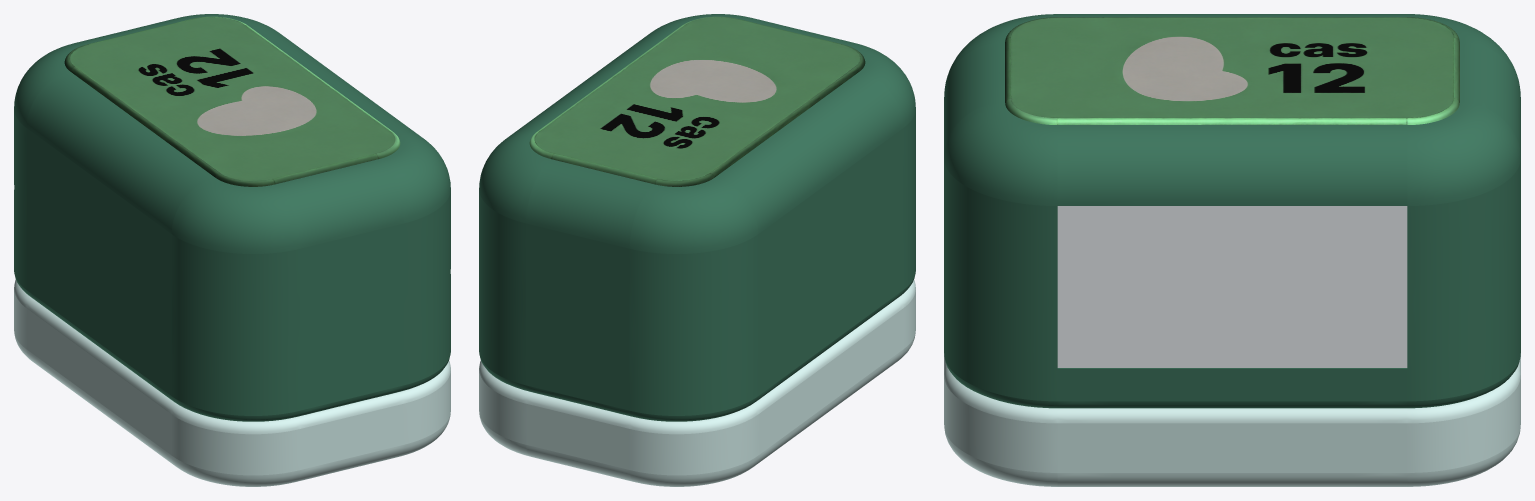
The model's file is 误删源文件.fbx.
3 renders of one model, left to right at view 1: azimuth 30°, elevation 25°; view 2: azimuth 150°, elevation 25°; view 3: azimuth 270°, elevation 25°, orthographic. The views are drawn at different scales.
Parts seen in each view (by area): view 1: 物件_330, 物件_327, 物件_331; view 2: 物件_330, 物件_327, 物件_331; view 3: 物件_330, 物件_328, 物件_327, 物件_331.
Boxes of the visible parts, x1,y1,x2,y2 form: 物件_330: (14,14,450,421); 物件_327: (64,16,400,186); 物件_331: (14,279,450,486); 物件_330: (479,14,915,421); 物件_327: (529,16,865,186); 物件_331: (479,279,915,486); 物件_330: (944,14,1520,408); 物件_328: (1057,206,1407,367); 物件_327: (1005,17,1459,124); 物件_331: (944,353,1520,486).
Bounding box in the file's own units: 12.69 × 13.15 × 19.71.
